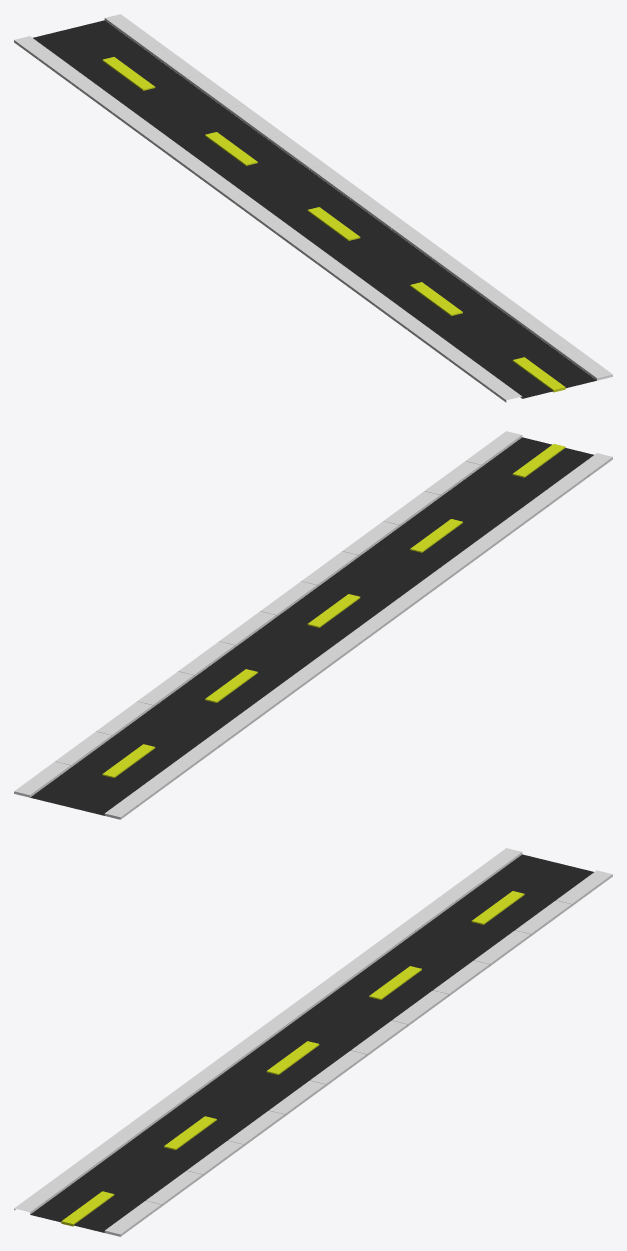
File: Road.fbx
The picture shows the model from 3 angles, top to bottom: view 1: azimuth 30°, elevation 25°; view 2: azimuth 150°, elevation 25°; view 3: azimuth 330°, elevation 25°; orthographic projection.
Parts seen in each view (by area): view 1: Road, Sidewalk.001, Sidewalk, median; view 2: Road, Sidewalk.001, Sidewalk, median; view 3: Road, Sidewalk.001, Sidewalk, median.
Boxes of the visible parts, x1,y1,x2,y2 form: Road: [33, 20, 596, 398]; Sidewalk.001: [14, 36, 522, 402]; Sidewalk: [104, 14, 612, 380]; median: [102, 57, 565, 392]; Road: [30, 437, 593, 815]; Sidewalk.001: [104, 453, 612, 819]; Sidewalk: [14, 431, 522, 797]; median: [102, 444, 565, 777]; Road: [30, 854, 593, 1232]; Sidewalk.001: [14, 848, 522, 1214]; Sidewalk: [104, 870, 612, 1236]; median: [61, 891, 524, 1226].
Size of the model in its own units: 900 by 30 by 7200.
